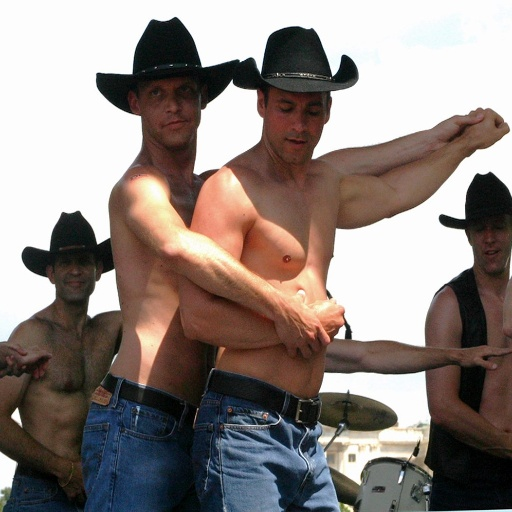hand: (275, 284, 329, 356), (435, 113, 485, 158), (463, 105, 510, 150), (307, 296, 345, 341), (458, 343, 511, 369), (59, 459, 87, 501), (0, 341, 29, 376), (23, 346, 52, 380)
